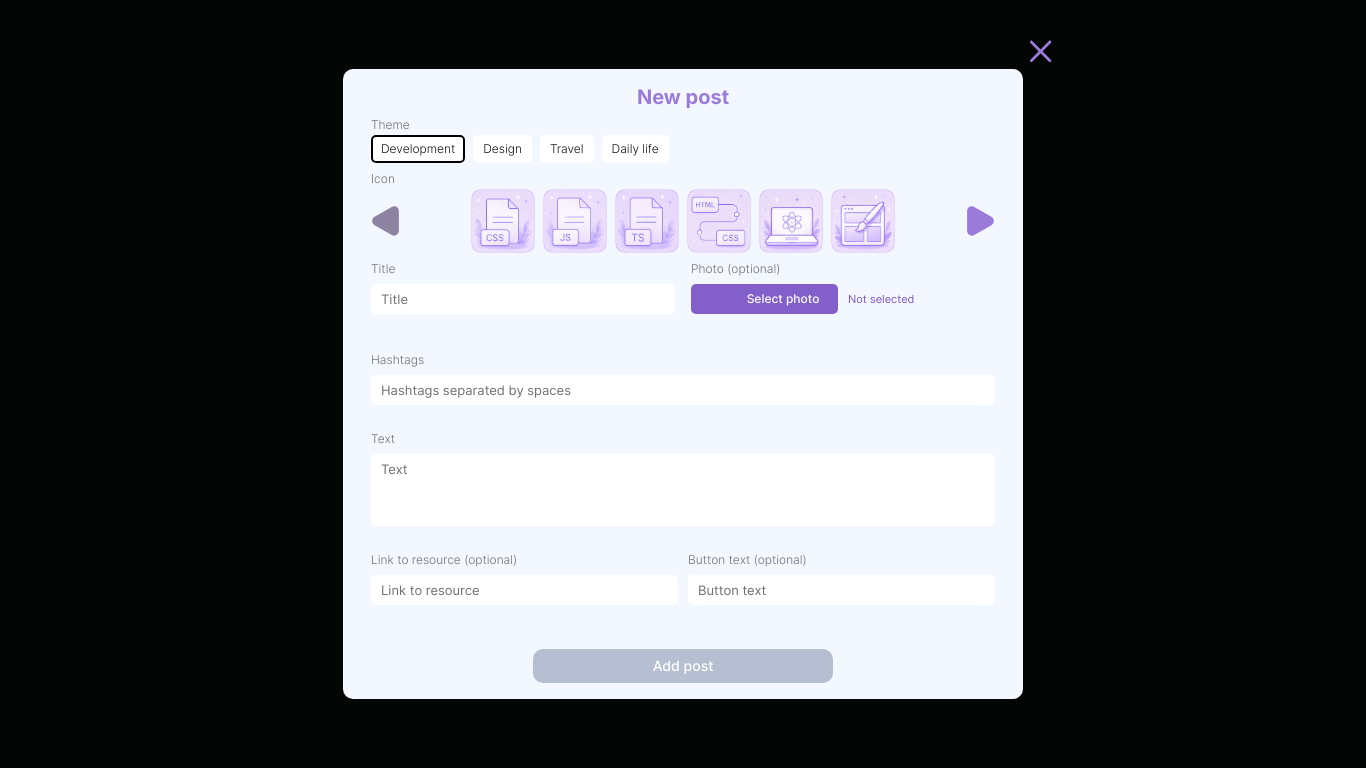
Post external link forms › Persistent labels in new post popup › asks for post text when its text field is cleared
Click the 1st radio button labelled "Development": x=418, y=149 [381, 141, 455, 157]
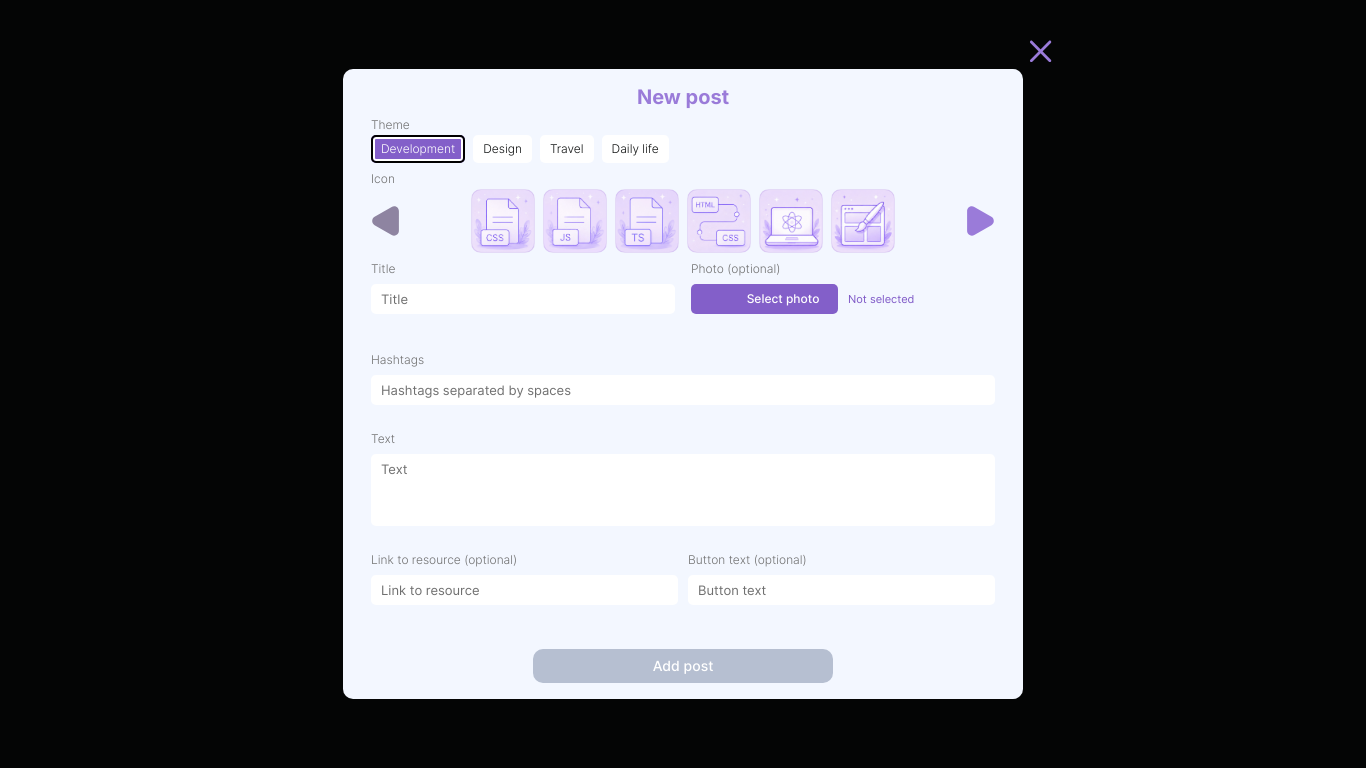
Click the radio button named "js icon": x=575, y=221 [544, 190, 606, 252]
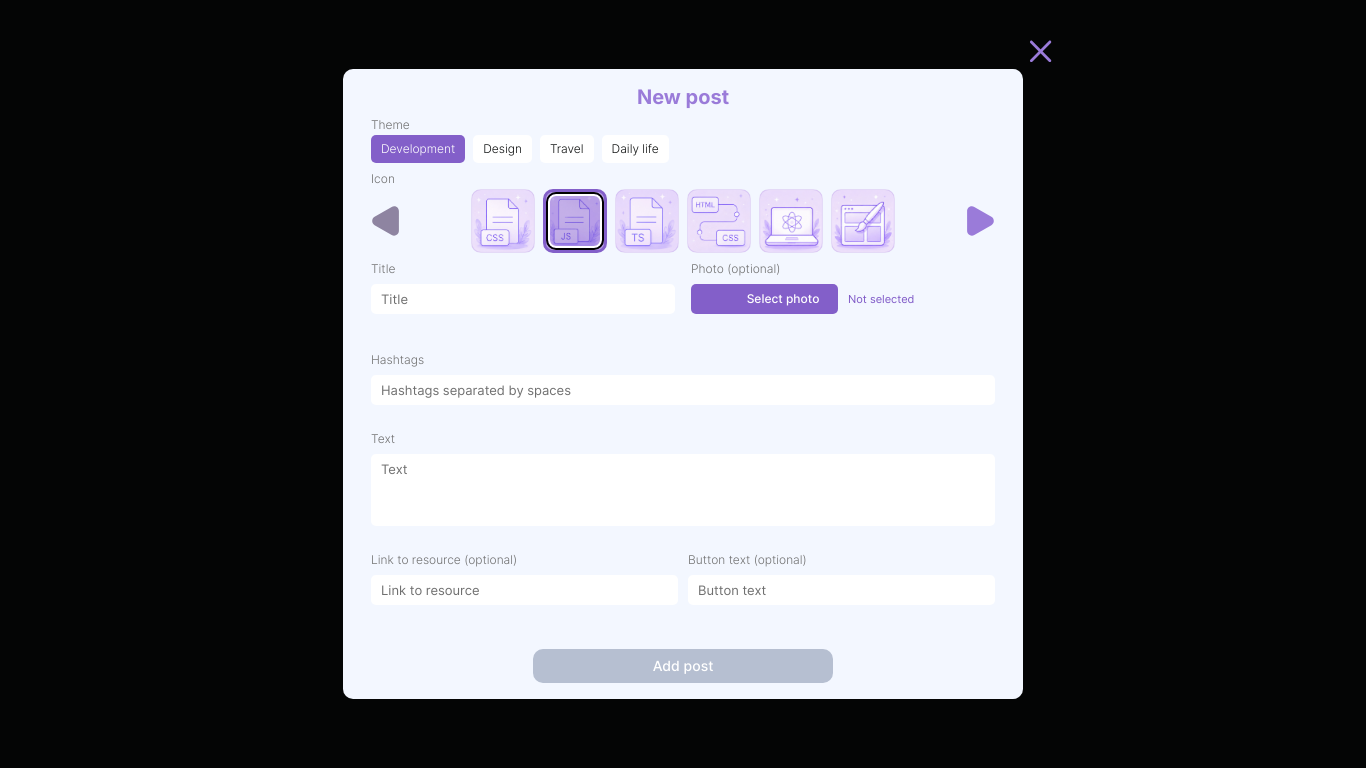
In the field with placeholder "Title": x=523, y=299 [371, 284, 675, 314], type "An article"
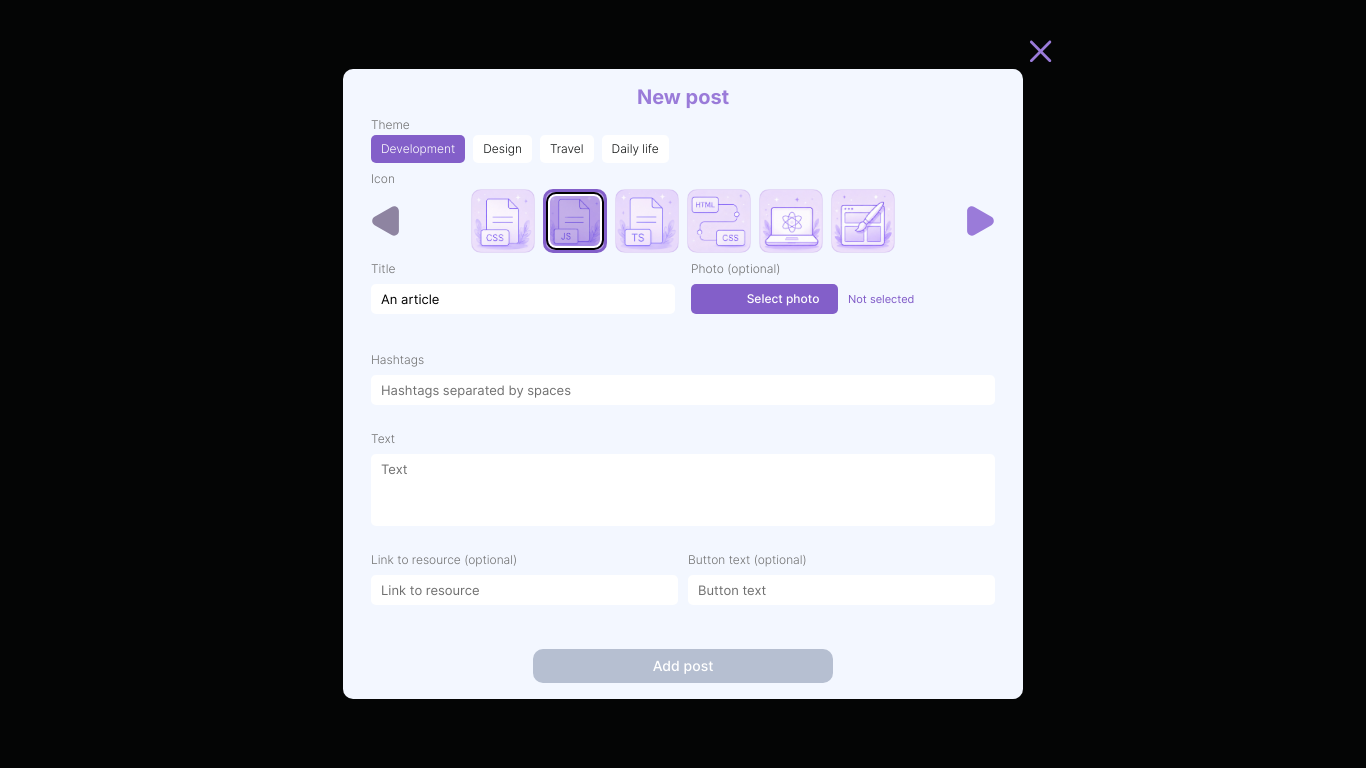
In the field with placeholder "Hashtags separated by spaces": x=683, y=390 [371, 375, 995, 405], type "node"
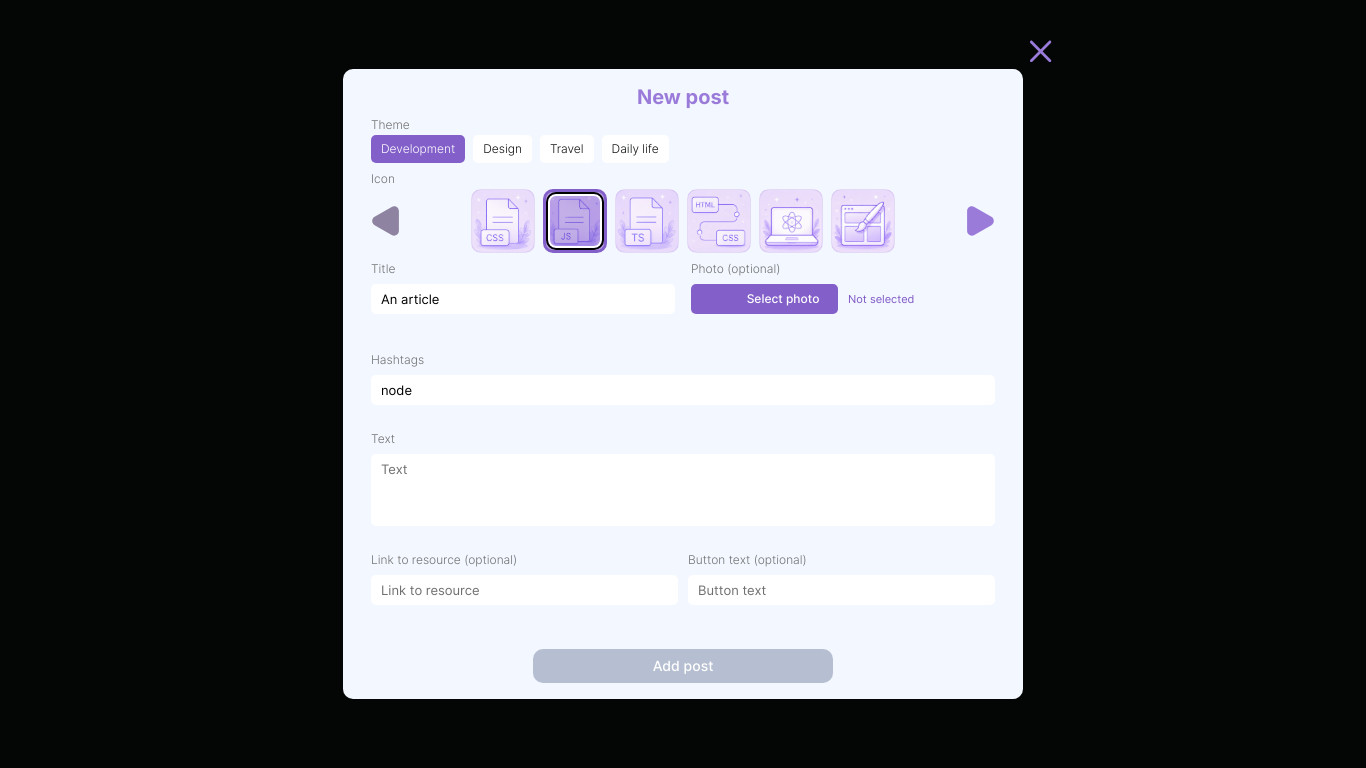
In the text box with placeholder "Text": x=683, y=490 [371, 454, 995, 526], type "Post text"
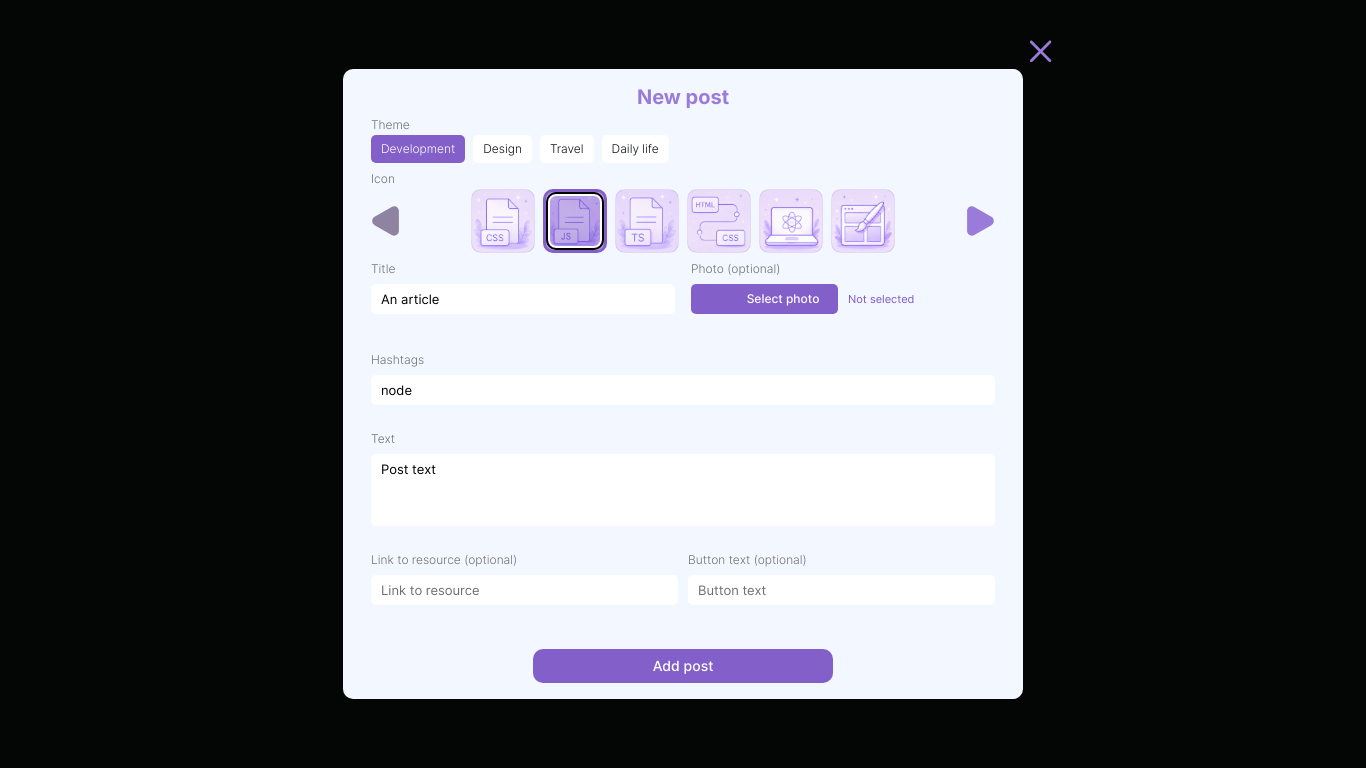
Clear the text box labelled "Text": x=683, y=490 [371, 454, 995, 526]
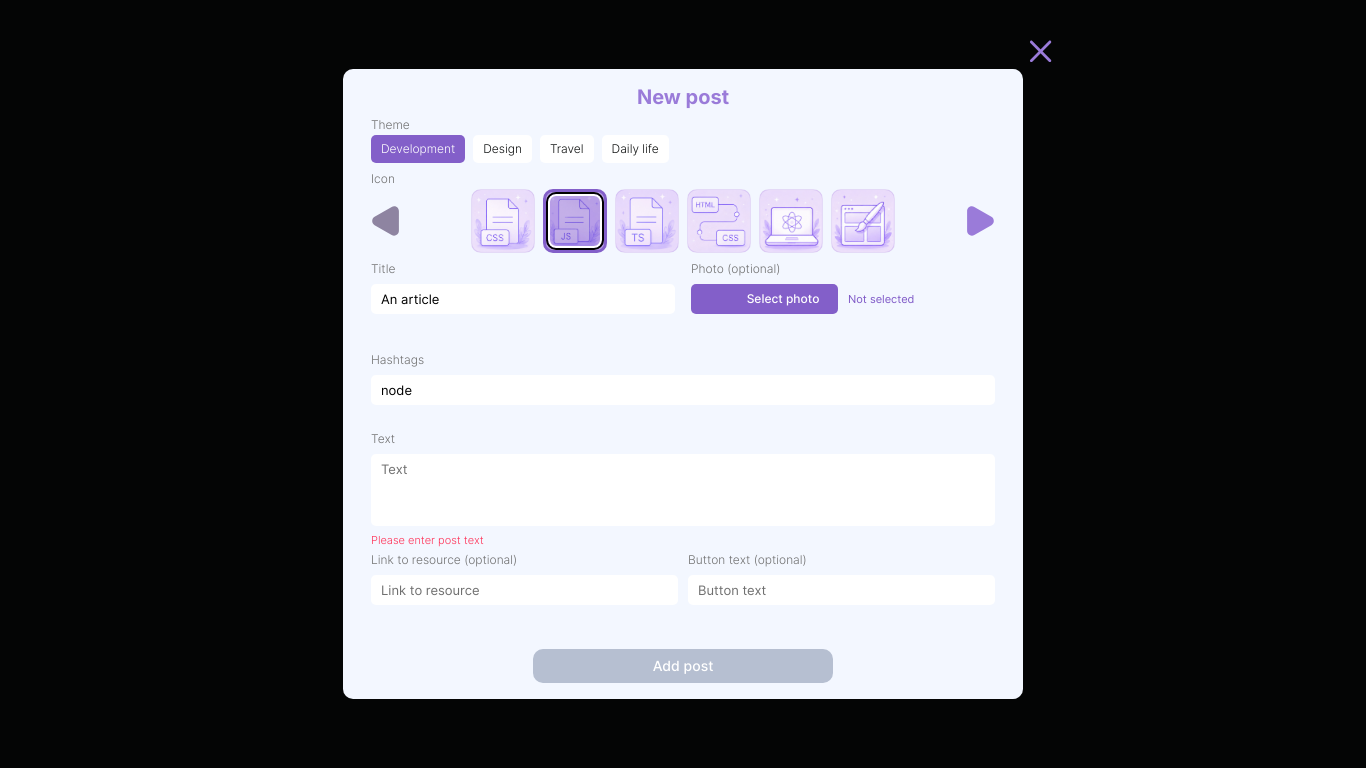
expect the text "Please enter post text" is shown: met, box [371, 533, 484, 547]
